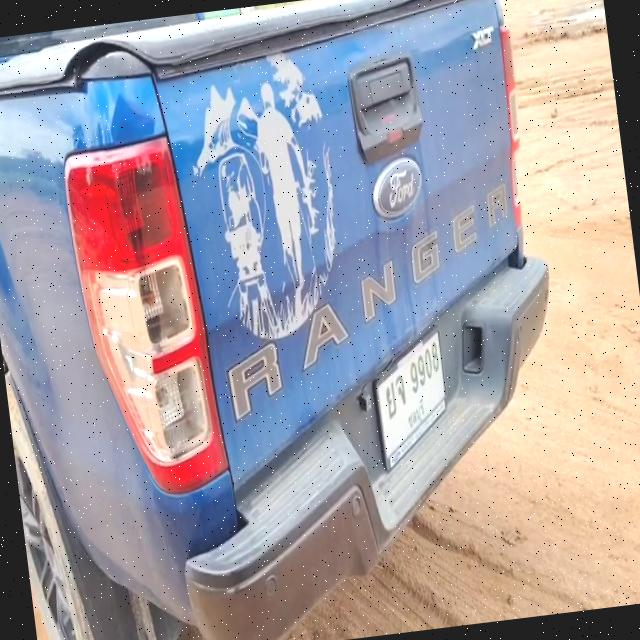Digit: (406, 339, 442, 396)
Licenseplate: (372, 319, 446, 475)
Provincename: (406, 398, 428, 428)
Thaichar: (382, 376, 409, 418)
